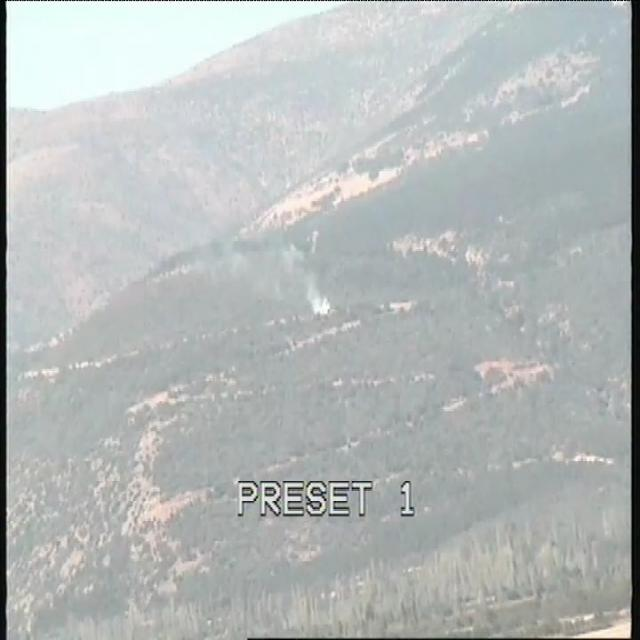smoke: (297, 277, 336, 317)
